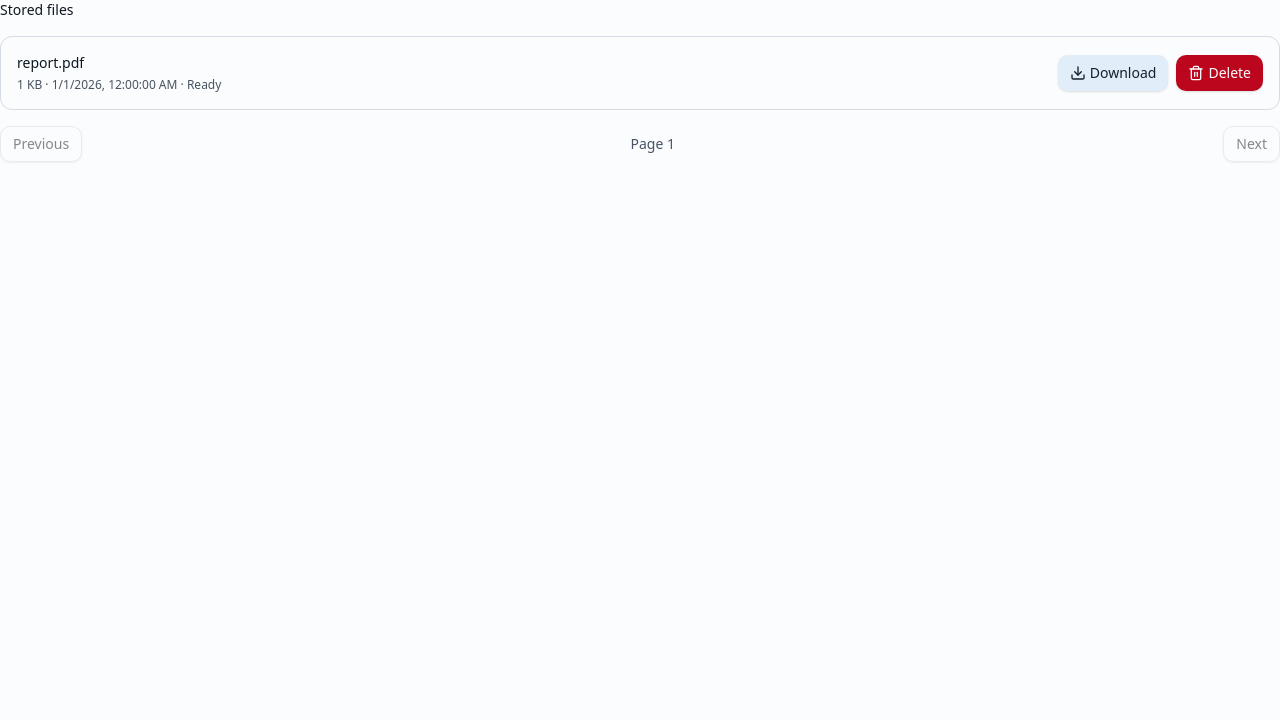
Test: requires dialog confirmation and refreshes the list after deletion
The width and height of the screenshot is (1280, 720).
Expected: the text "report.pdf" is shown, [17,53,84,72]
Step 1. Click the button "Delete" → (1220, 73), box [1176,55,1263,91]
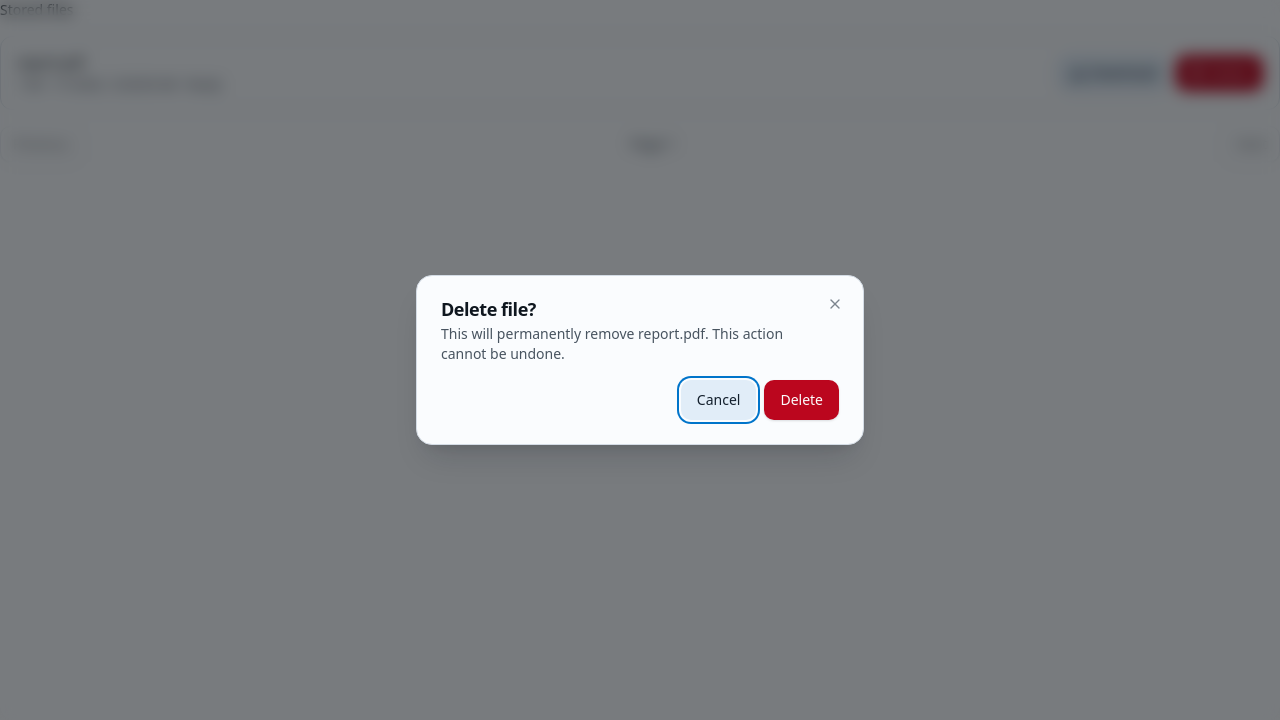
Step 2. Click the button "Delete" → (802, 400), box [764,380,839,420]
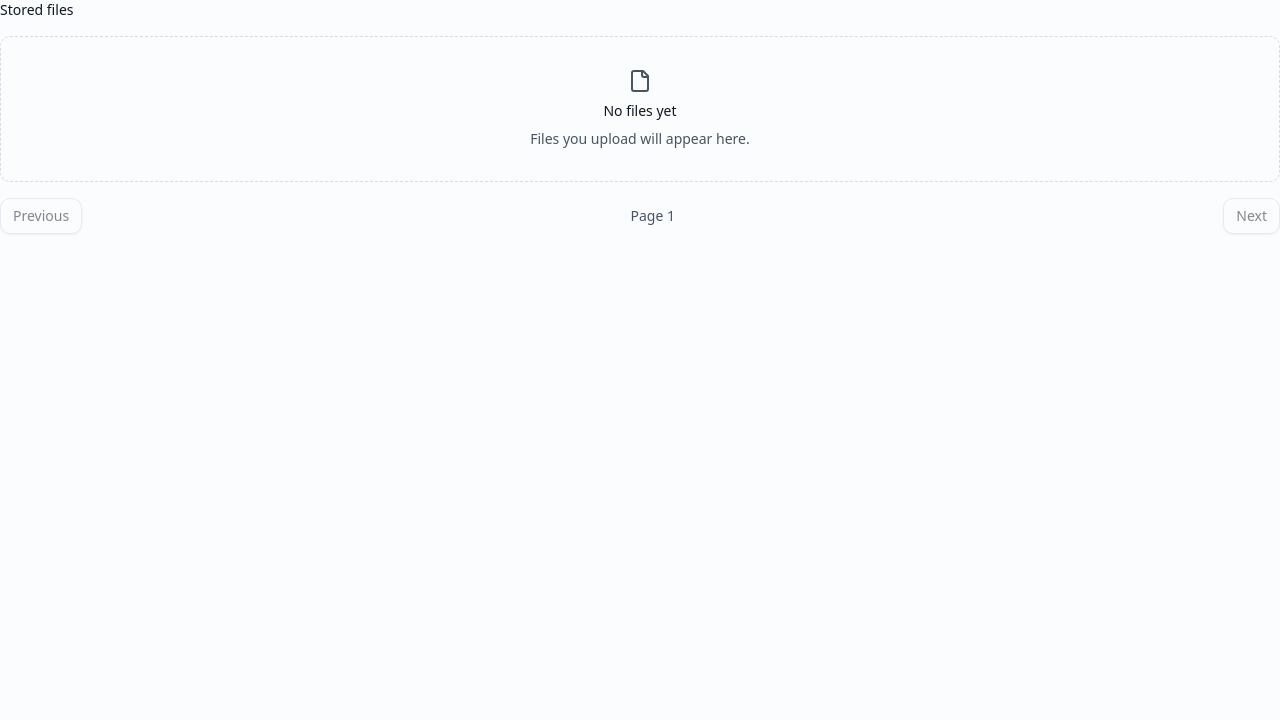
Now the heading "No files yet" is shown, box [603,101,676,121]
